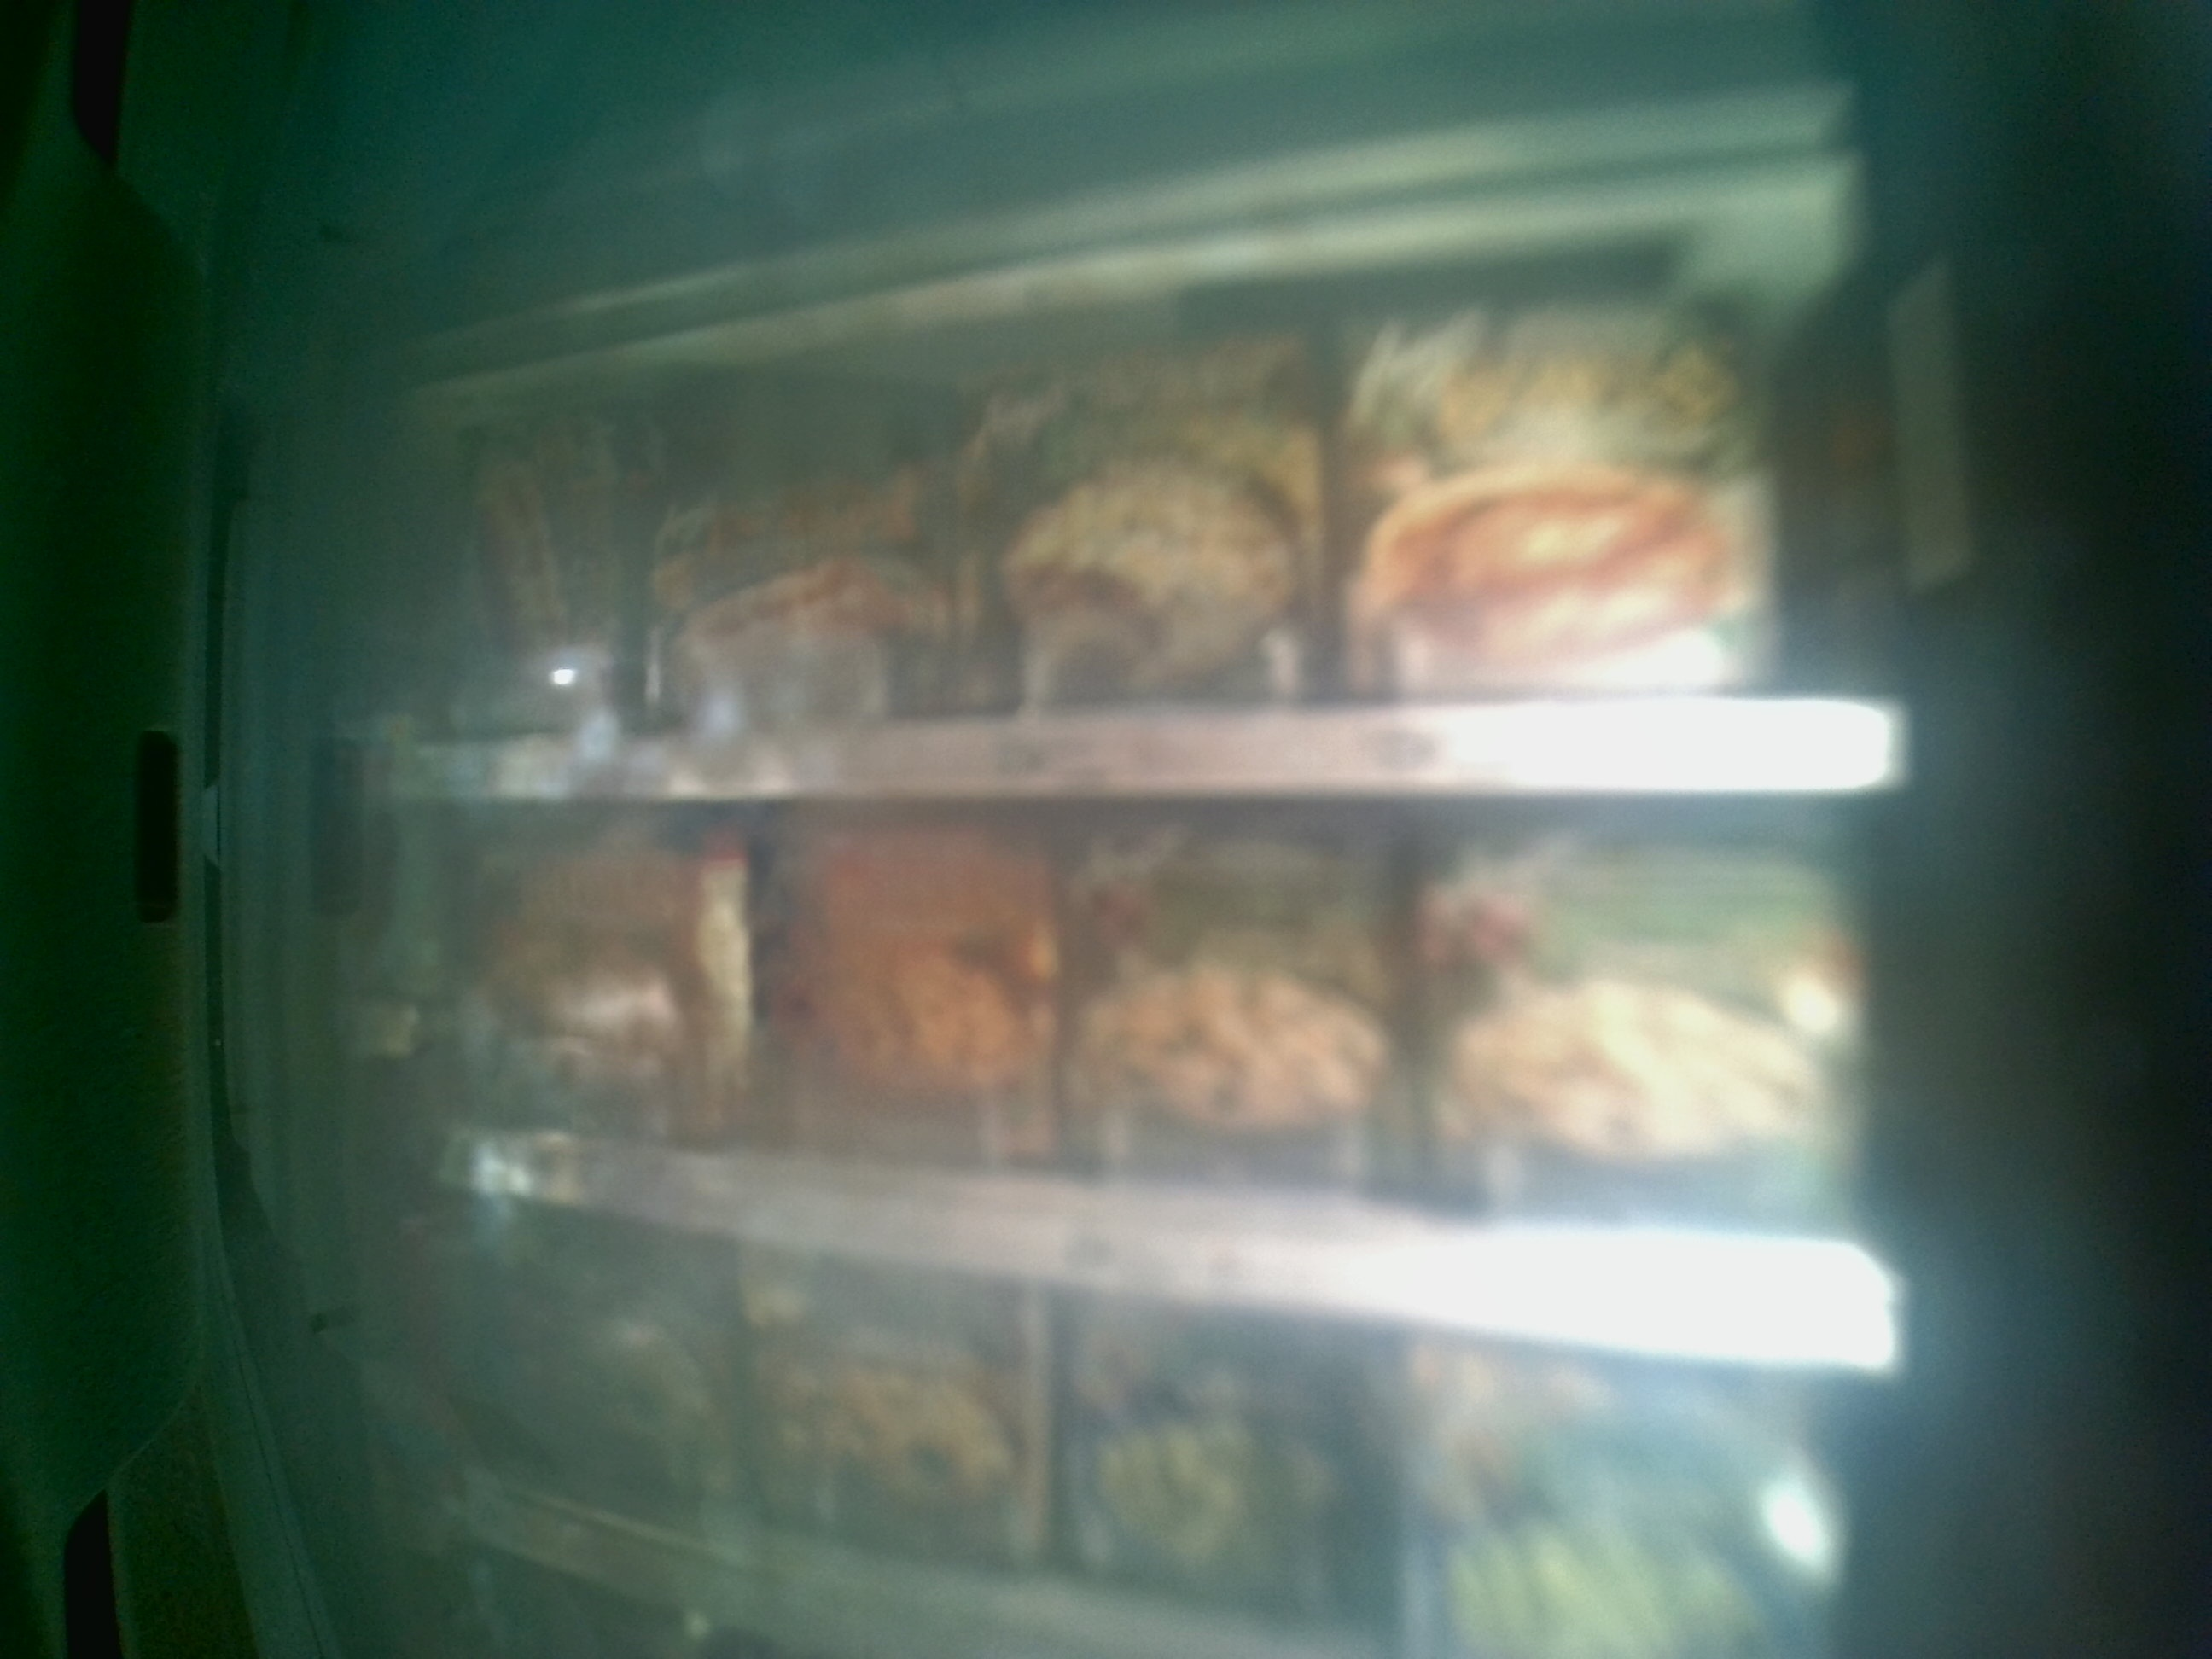frozen-food-shelf: (347, 812, 1951, 1396), (348, 390, 1935, 807)
